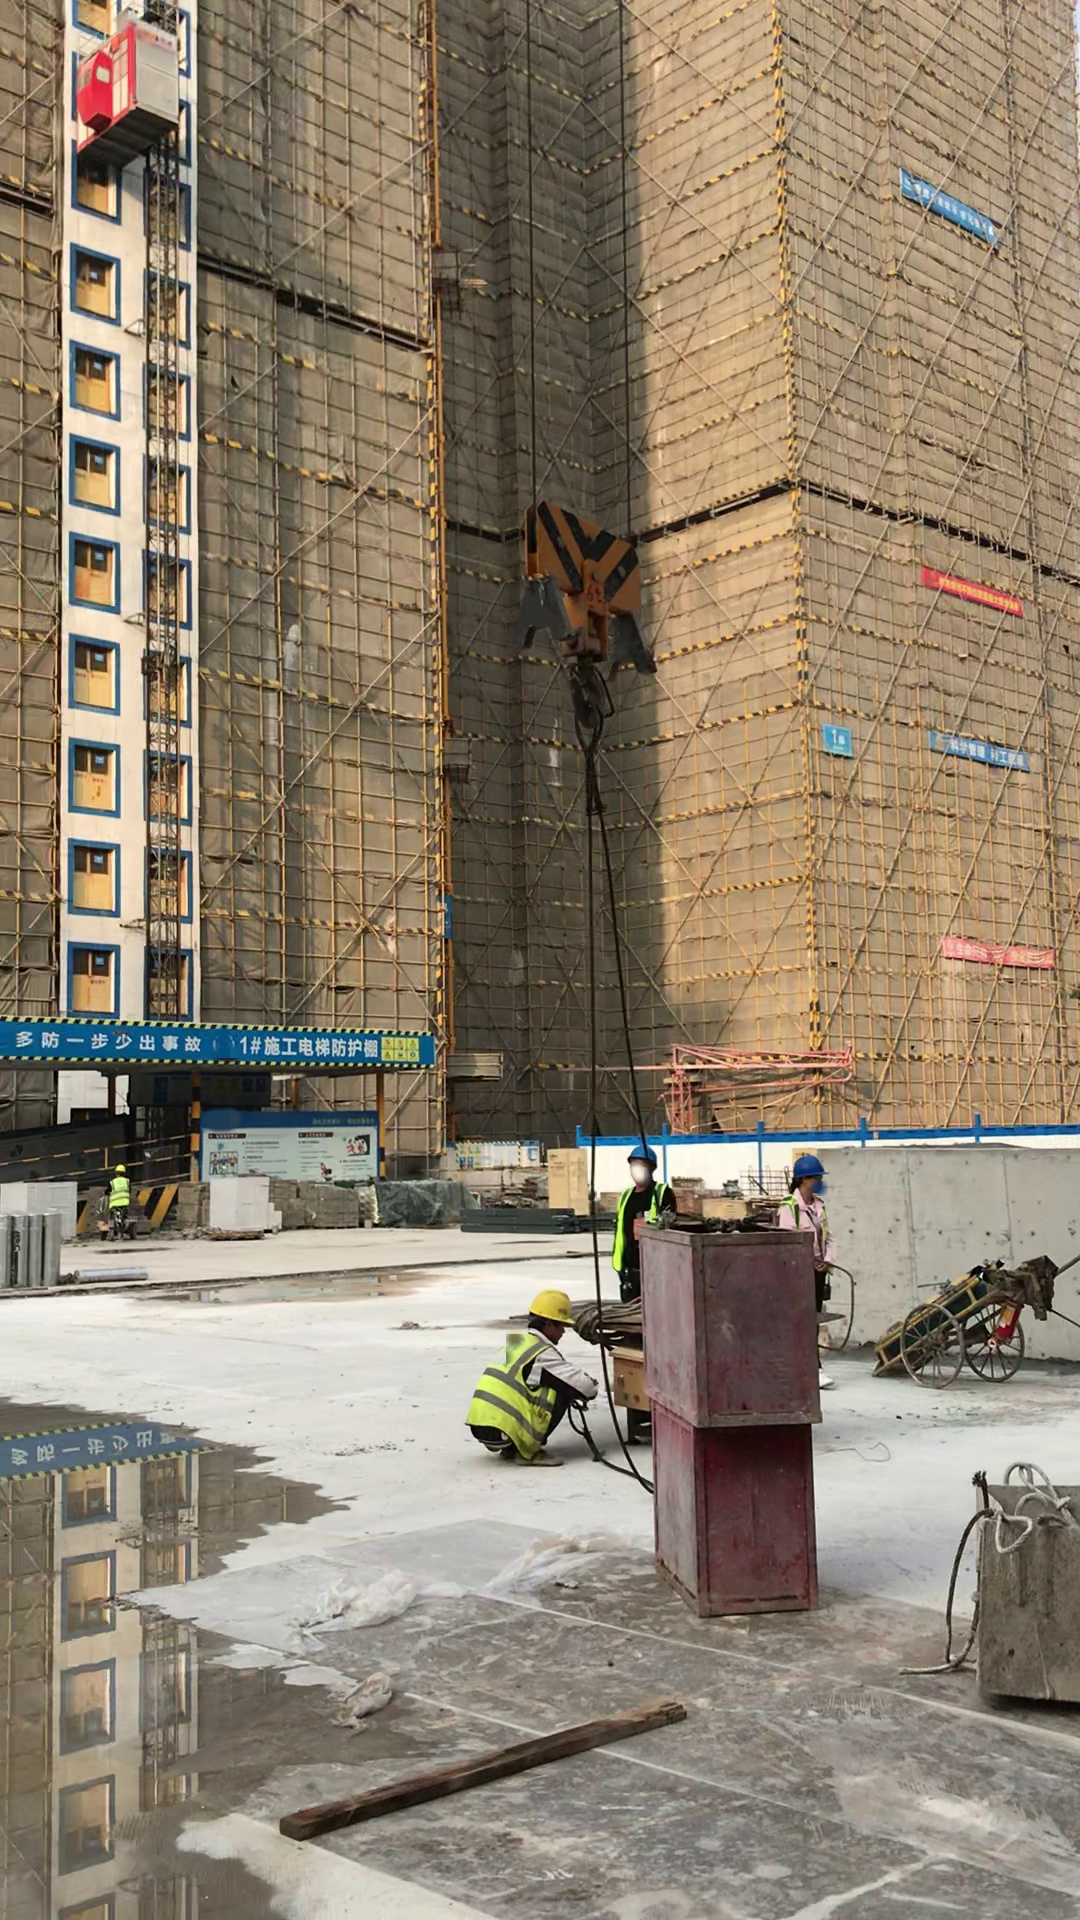brick: (2, 1173, 87, 1244), (198, 1169, 281, 1235)
ebox: (585, 1347, 657, 1413)
fence: (1, 1130, 198, 1193)
handcart: (862, 1231, 1080, 1426)
helmet: (524, 1275, 586, 1338), (615, 1127, 676, 1188), (780, 1144, 840, 1192), (103, 1152, 132, 1184)
hook: (483, 460, 707, 792)
hopper: (919, 1450, 1080, 1724)
person: (465, 1261, 628, 1465), (770, 1127, 882, 1400), (595, 1134, 693, 1275), (95, 1154, 159, 1250)
slogan: (1, 993, 445, 1095), (1, 1407, 214, 1474), (191, 1107, 374, 1179), (918, 560, 1036, 627), (914, 719, 1034, 779), (938, 929, 1057, 986), (816, 724, 867, 768), (455, 1142, 486, 1169), (514, 1142, 541, 1164)
vest: (464, 1326, 576, 1463), (781, 1187, 850, 1287), (612, 1182, 674, 1276), (107, 1176, 132, 1213)
wood: (269, 1174, 363, 1235), (171, 1178, 212, 1230)
